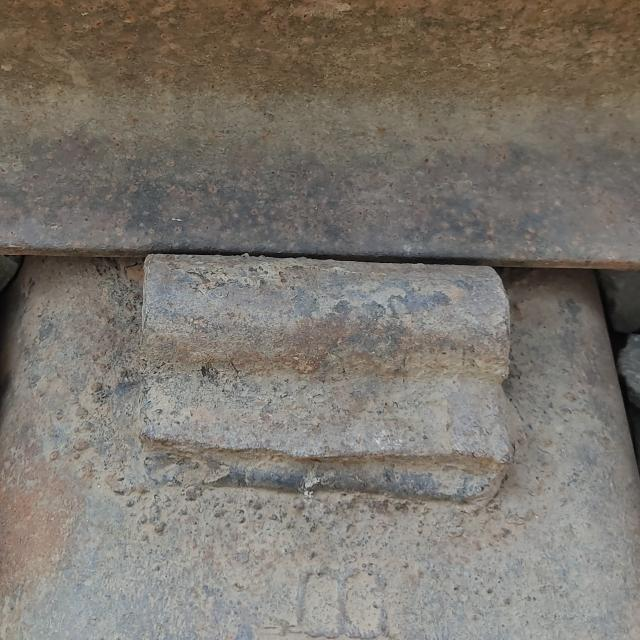track_bolt_missing: (131, 250, 520, 400)
